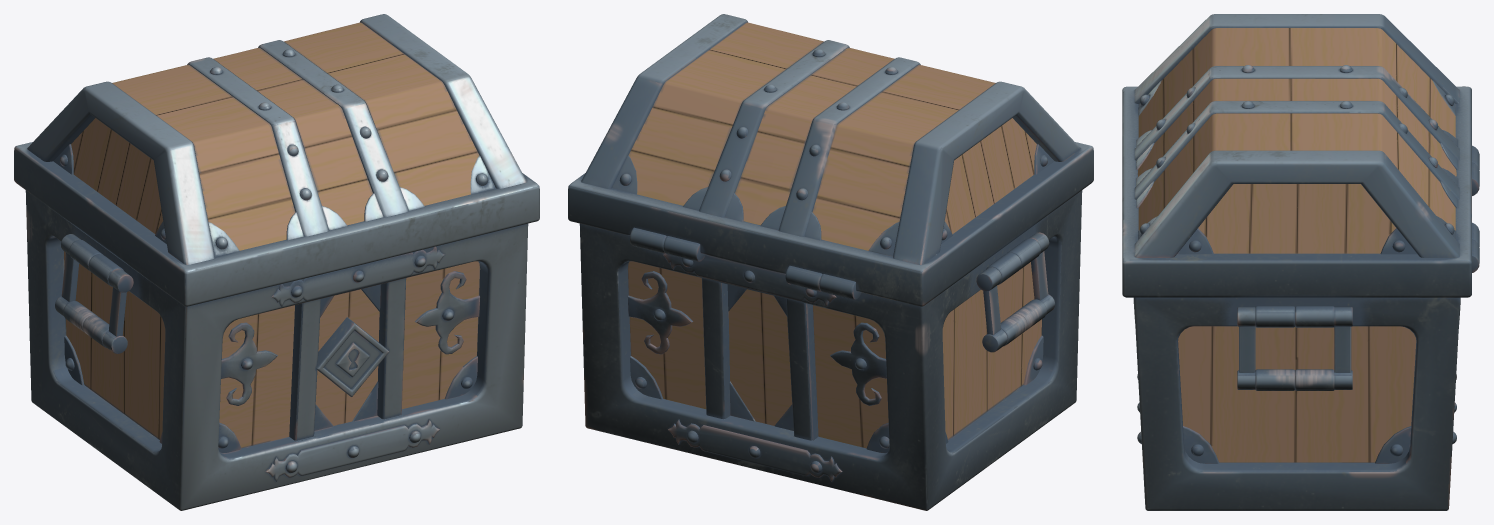
The picture shows the model from 3 angles, left to right: view 1: azimuth 30°, elevation 25°; view 2: azimuth 150°, elevation 25°; view 3: azimuth 270°, elevation 25°; orthographic projection.
Parts seen in each view (by area): view 1: Chest; view 2: Chest; view 3: Chest.
Boxes of the visible parts, x1,y1,x2,y2 form: Chest: (14,14,539,510); Chest: (568,14,1093,510); Chest: (1122,14,1479,510).
Bounding box in the file's own units: 449 × 372 × 350.
1 material, 1 textured.
